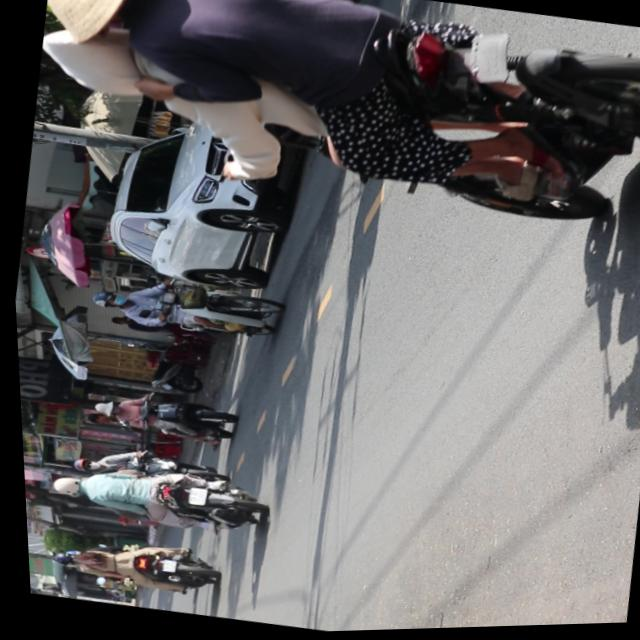helmet: (33, 17, 180, 108), (85, 287, 124, 311), (44, 473, 79, 497)
licenseplate: (21, 0, 640, 264), (38, 451, 265, 545), (81, 268, 281, 350), (80, 383, 234, 451)
motorcyclist: (40, 0, 172, 54), (86, 399, 117, 420)
nohelmet: (181, 487, 202, 507)
